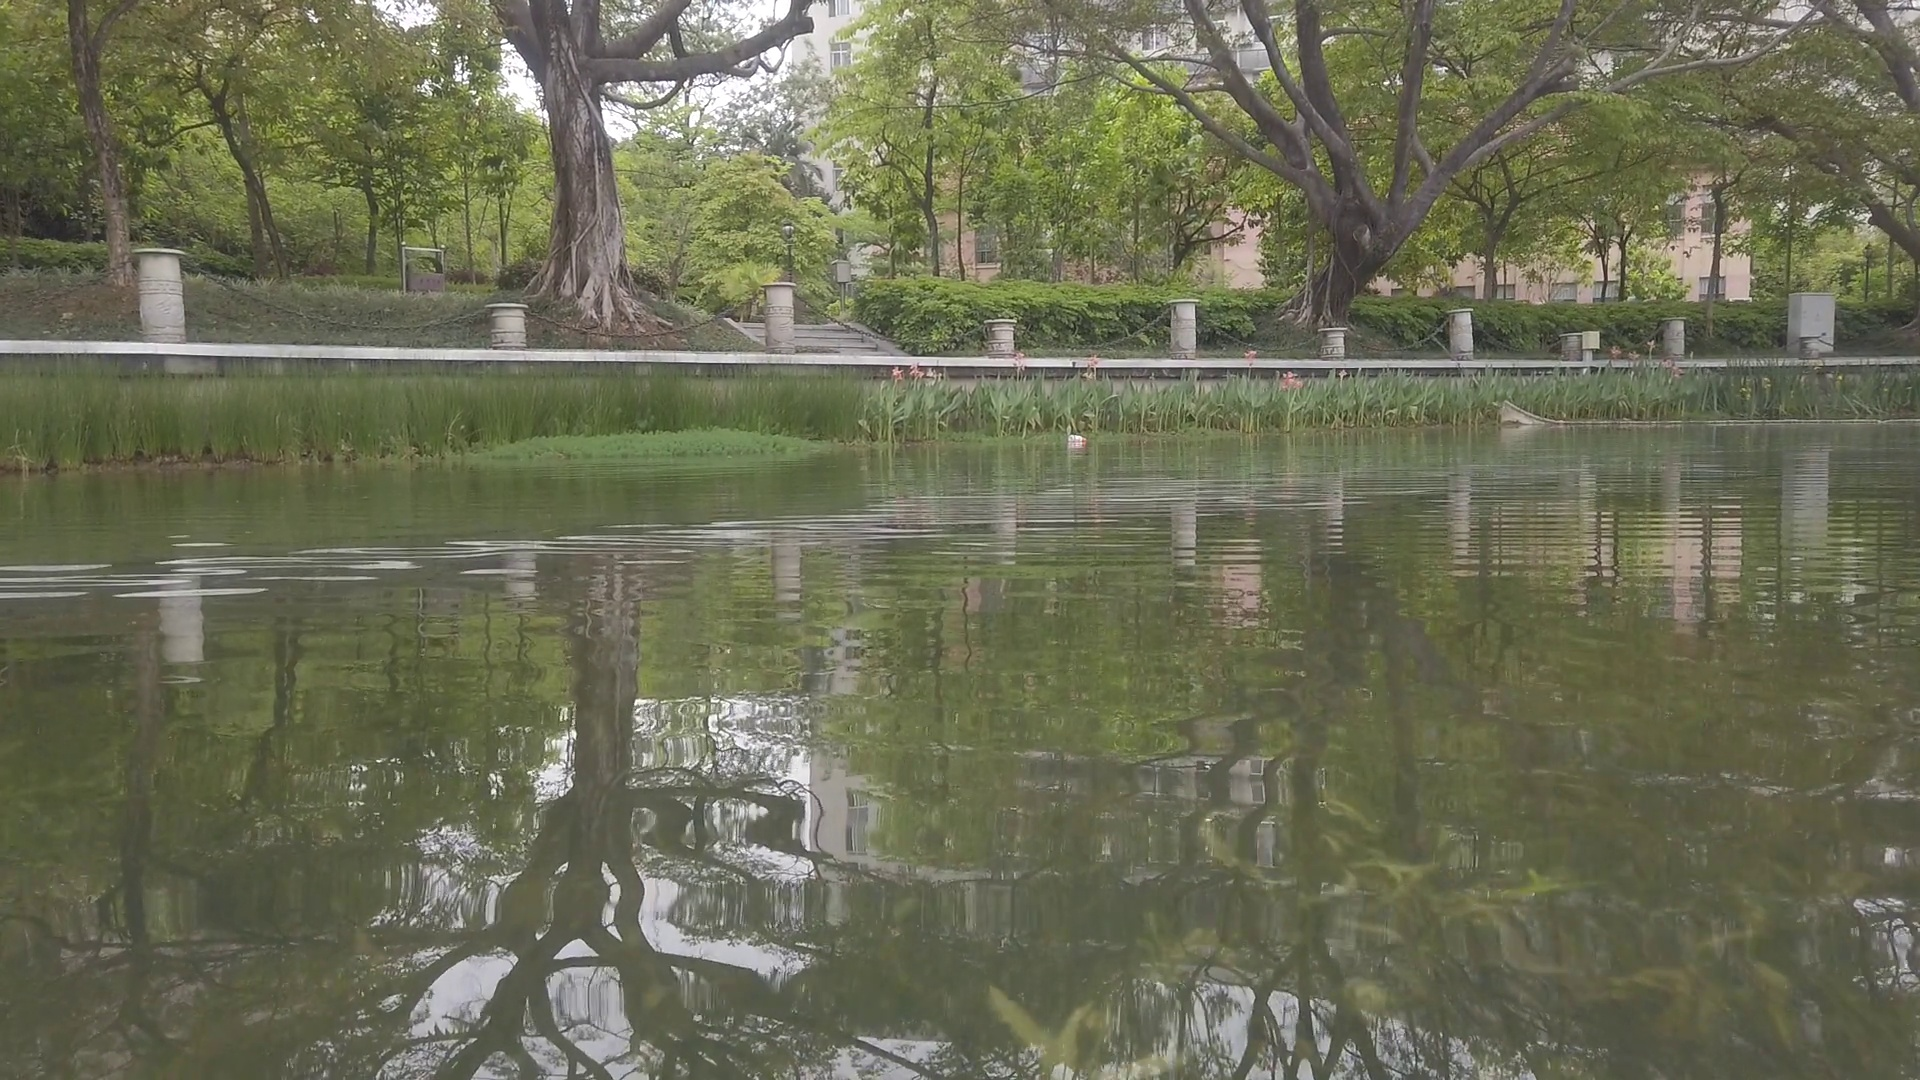bottle: (1069, 436, 1087, 442)
